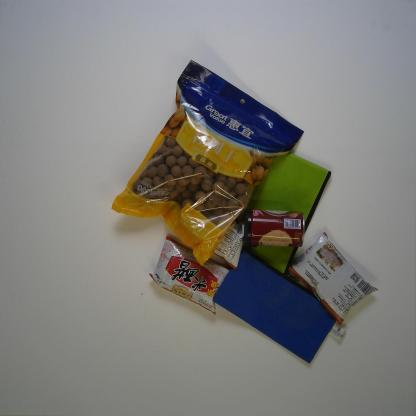Canned Food: (244, 206, 306, 248)
Dried Food: (111, 58, 305, 267)
Seasoner: (286, 231, 380, 326), (148, 235, 230, 316), (187, 185, 253, 269)
Stationery: (212, 251, 348, 366), (226, 145, 333, 282)
